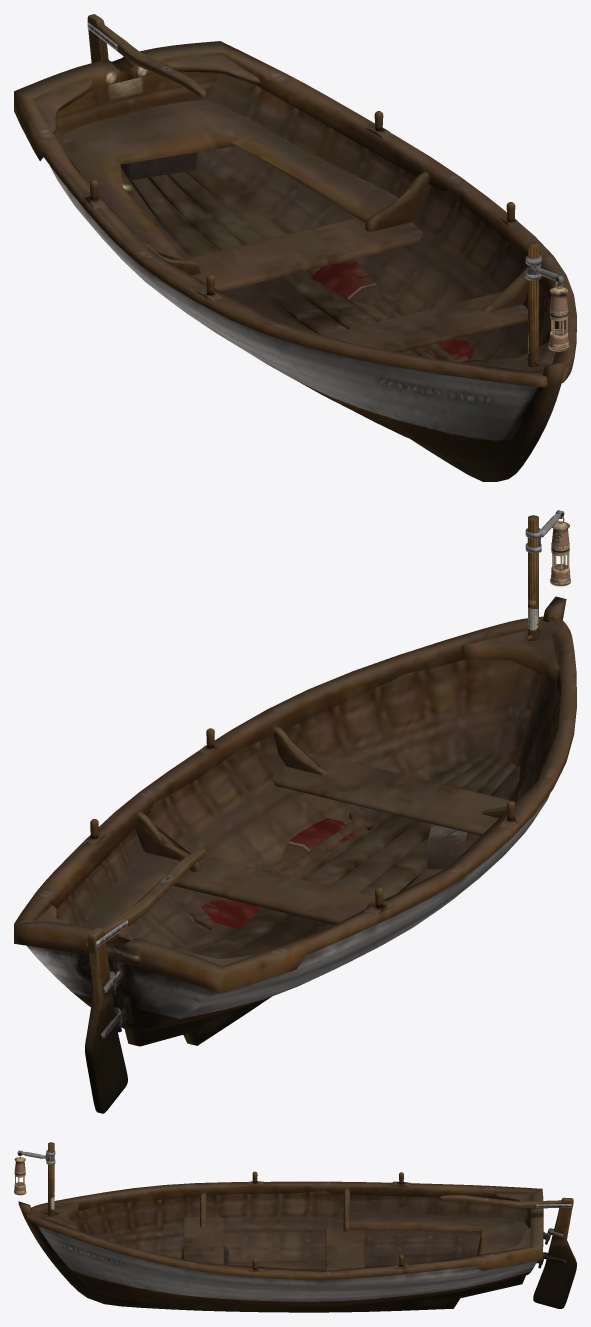
The model's file is rowboat.glb.
3 views of the same model, one above another, from view 1: azimuth 30°, elevation 25°; view 2: azimuth 150°, elevation 25°; view 3: azimuth 270°, elevation 25° (orthographic). The views are drawn at different scales.
Visible parts, largest first — view 1: far, kit0, kit1; view 2: far, kit0, kit1; view 3: far, kit0, kit1.
Boxes of the visible parts, x1,y1,x2,y2 form: far: (14,18,575,458); kit0: (14,14,576,481); kit1: (18,15,576,481); far: (14,528,575,1045); kit0: (15,510,576,1113); kit1: (18,515,576,1112); far: (19,1145,573,1310); kit0: (14,1144,576,1312); kit1: (14,1142,571,1312).
Size of the model in its own units: 1.4 by 1.18 by 3.6.
Materials: 1 (1 with a texture image).
